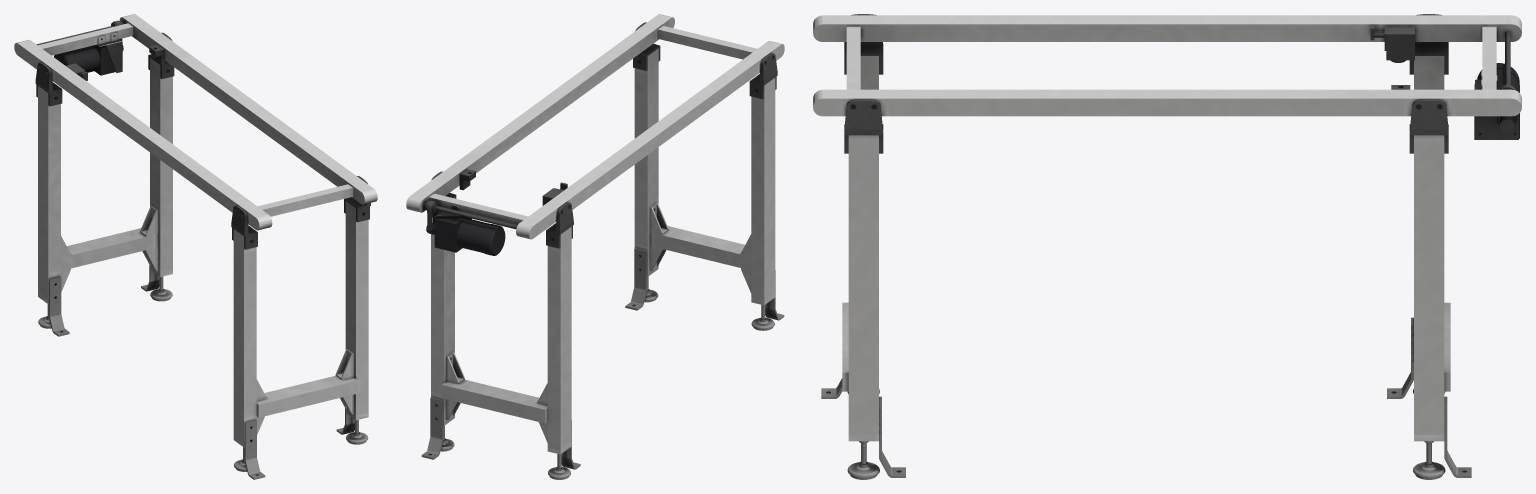
The model's file is transModFrame.glb.
3 views of the same model, side by side, from view 1: azimuth 30°, elevation 25°; view 2: azimuth 150°, elevation 25°; view 3: azimuth 270°, elevation 25° (orthographic). The views are drawn at different scales.
Parts seen in each view (by area): view 1: transModFrame; view 2: transModFrame; view 3: transModFrame.
Part boxes in pixels (<box>): transModFrame: <box>14,14,377,479</box>; transModFrame: <box>406,14,784,479</box>; transModFrame: <box>813,14,1521,479</box>.
Bounding box in the file's own units: 46.1 × 87.99 × 149.
5 materials, 5 textured.
